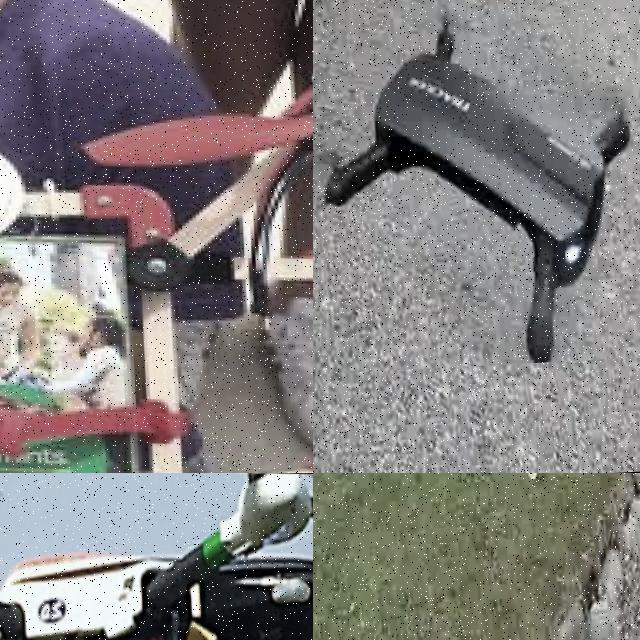drone: (0, 0, 313, 473), (313, 0, 640, 374), (0, 473, 313, 640)
